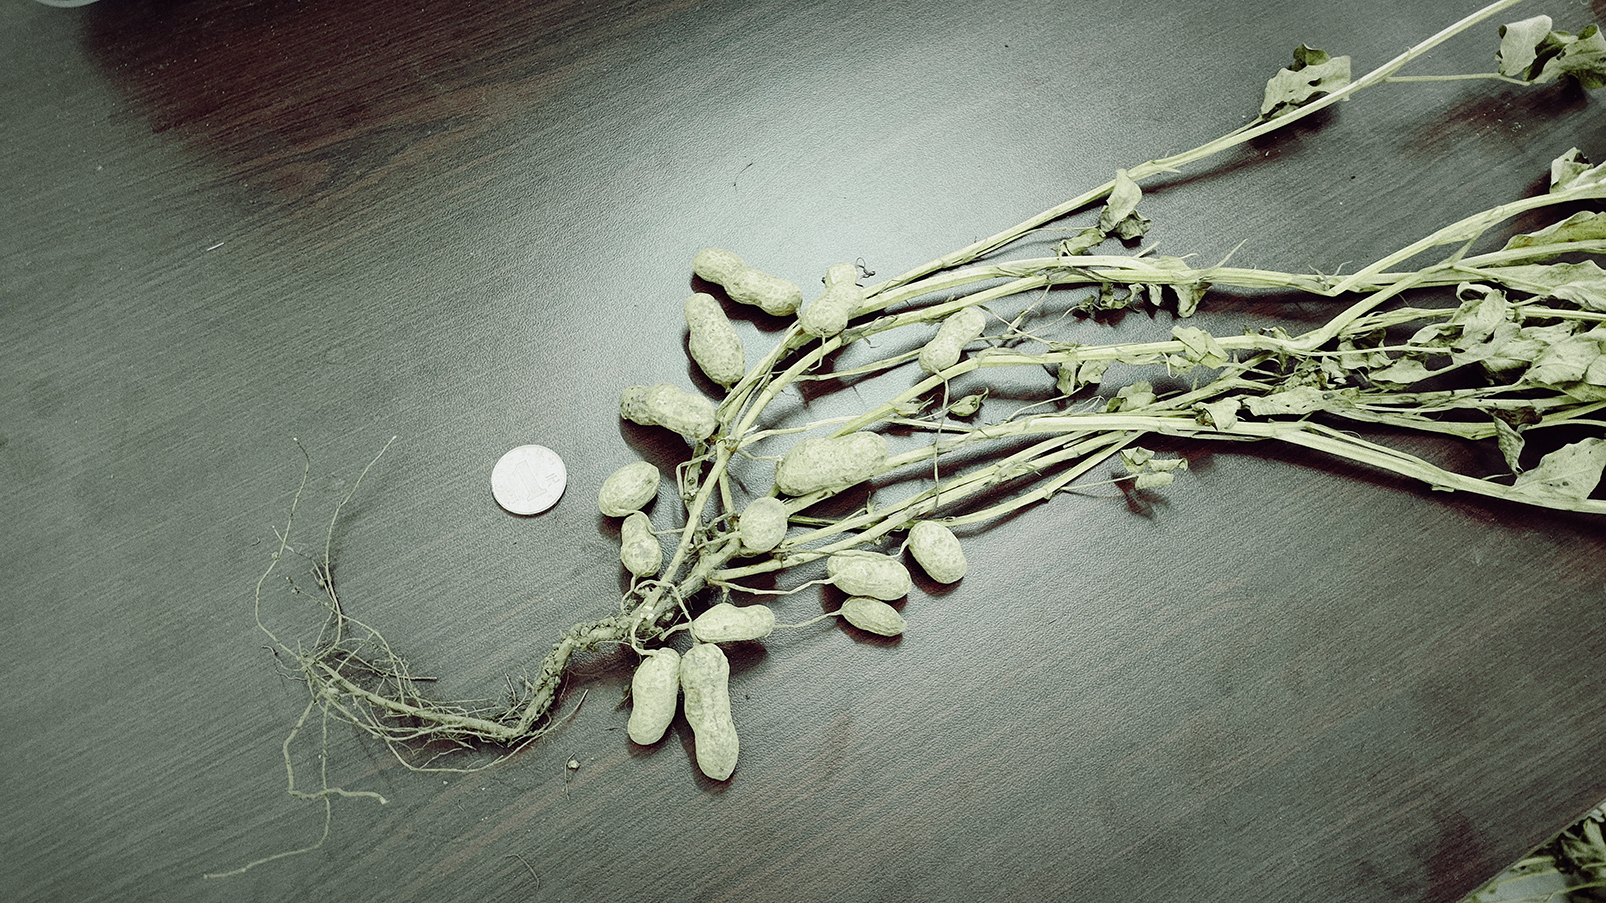h: (679, 642, 738, 784), (692, 248, 801, 319), (777, 432, 884, 498), (619, 381, 716, 447), (684, 292, 745, 385), (625, 643, 678, 745), (916, 303, 984, 373), (803, 264, 864, 338), (825, 550, 910, 601), (906, 518, 966, 583), (595, 458, 659, 516), (690, 602, 775, 642), (842, 596, 908, 642), (737, 499, 789, 551), (619, 515, 661, 576)
